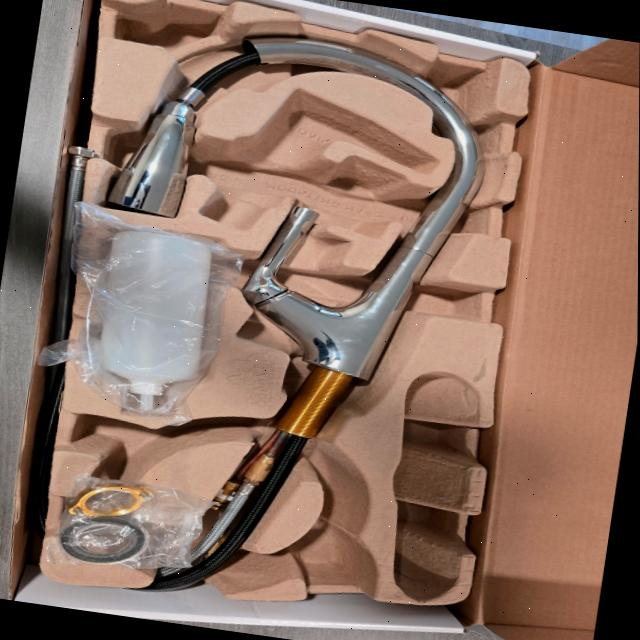1: (104, 32, 486, 590)
2m: (201, 89, 437, 230)
3: (98, 228, 204, 411)
4m: (393, 371, 478, 602)
5m: (288, 525, 370, 586)
6: (42, 476, 218, 568)
7m: (68, 413, 200, 482)
